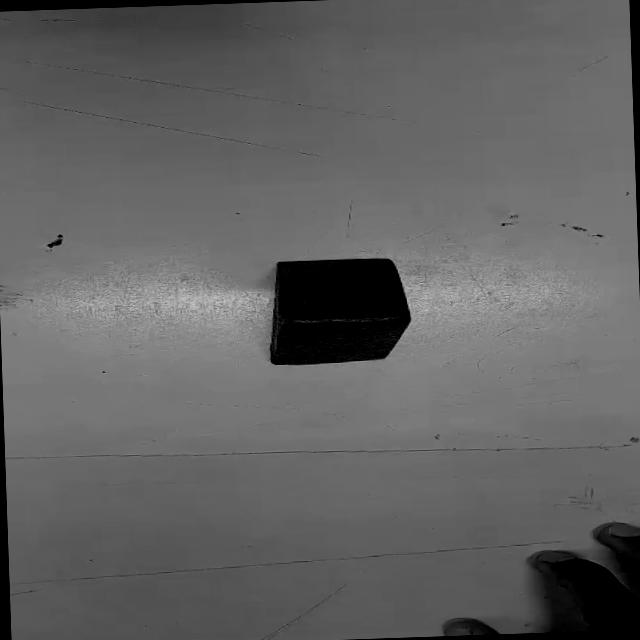btriangle: (263, 254, 417, 368)
